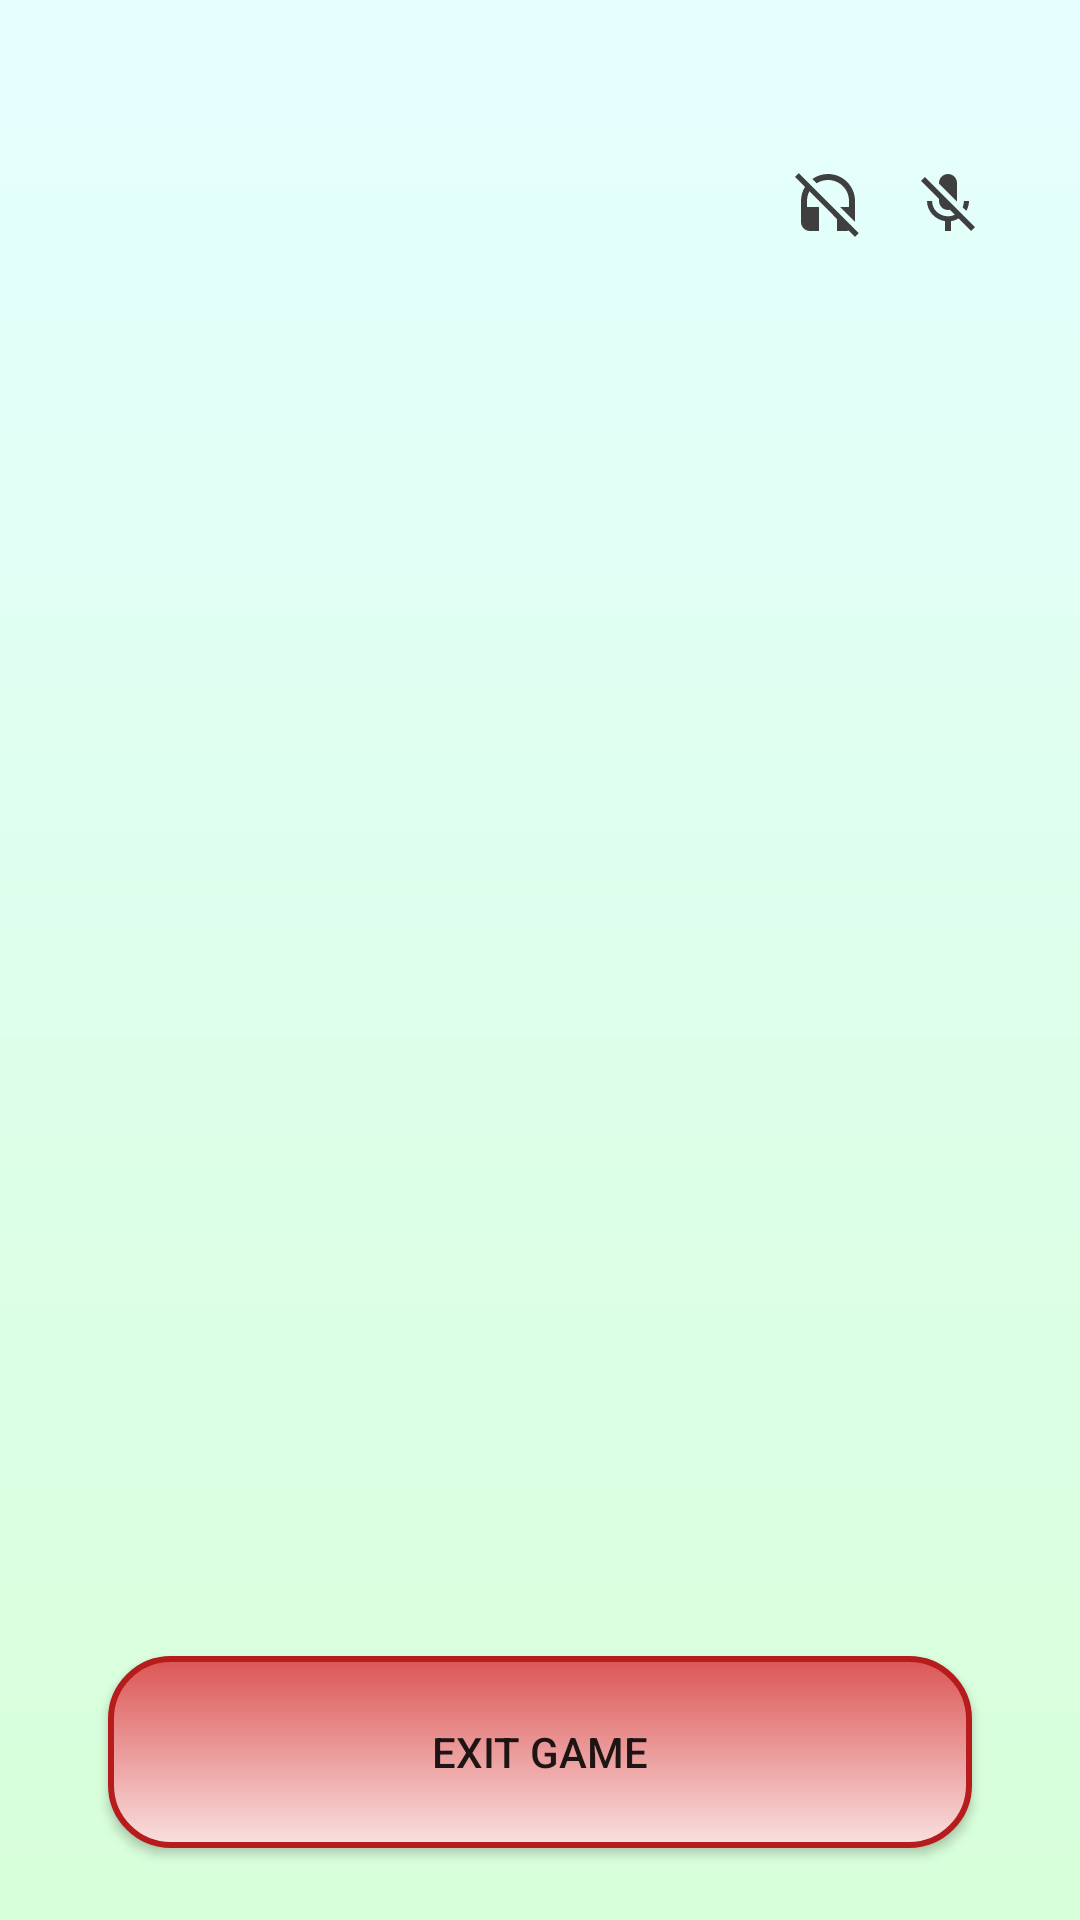

Icons on this 1080*1920 Android screen, each with its box as (x1, y1, x2, y2):
headset off: (795, 173, 859, 237)
mic off: (921, 174, 975, 231)
